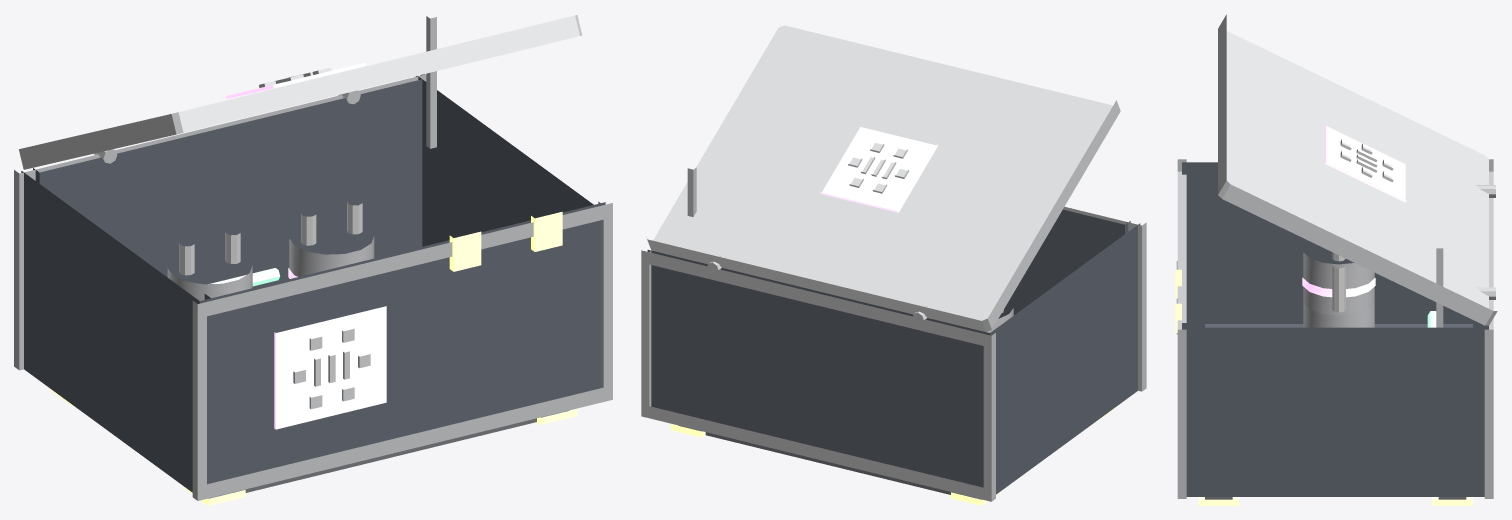
File: lab_crate_frame_204.glb
3 views of the same model, side by side, from view 1: azimuth 30°, elevation 25°; view 2: azimuth 150°, elevation 25°; view 3: azimuth 270°, elevation 25° (orthographic). The views are drawn at different scales.
Visible parts, largest first — view 1: Body_204, Frame_204, Lid_204, Glyph_Plate_204, Emitter_alloy_204, Latches_204, Emitter_ceramic_204, Glyph_Marks_204, Skids_204, Lid_Prop_204, Floor_Clamps_204; view 2: Lid_204, Body_204, Frame_204, Lid_Glyph_204, Skids_204, Lid_Glyph_Marks_204; view 3: Body_204, Lid_204, Frame_204, Emitter_alloy_204, Lid_Glyph_204, Emitter_slate_204, Emitter_ceramic_204, Floor_Clamps_204, Lid_Glyph_Marks_204, Emitter_violet_204, Lid_Prop_204.
Part boxes in pixels (bbox=[...]): Body_204: bbox=[21, 76, 605, 492]; Frame_204: bbox=[14, 74, 612, 500]; Lid_204: bbox=[19, 15, 582, 169]; Glyph_Plate_204: bbox=[274, 306, 386, 429]; Emitter_alloy_204: bbox=[167, 236, 374, 300]; Latches_204: bbox=[449, 211, 562, 271]; Emitter_ceramic_204: bbox=[179, 201, 362, 275]; Glyph_Marks_204: bbox=[293, 328, 370, 409]; Skids_204: bbox=[209, 410, 569, 498]; Lid_Prop_204: bbox=[426, 16, 436, 148]; Floor_Clamps_204: bbox=[49, 388, 577, 505]; Lid_204: bbox=[646, 25, 1120, 331]; Body_204: bbox=[647, 209, 1140, 494]; Frame_204: bbox=[641, 206, 1146, 501]; Lid_Glyph_204: bbox=[820, 127, 937, 212]; Skids_204: bbox=[678, 425, 981, 499]; Lid_Glyph_Marks_204: bbox=[848, 143, 908, 193]; Body_204: bbox=[1182, 162, 1488, 496]; Lid_204: bbox=[1218, 14, 1497, 325]; Frame_204: bbox=[1177, 159, 1493, 498]; Emitter_alloy_204: bbox=[1303, 252, 1374, 327]; Lid_Glyph_204: bbox=[1324, 123, 1406, 202]; Emitter_slate_204: bbox=[1205, 324, 1472, 327]; Emitter_ceramic_204: bbox=[1332, 252, 1345, 312]; Floor_Clamps_204: bbox=[1198, 497, 1472, 505]; Lid_Glyph_Marks_204: bbox=[1340, 139, 1393, 182]; Emitter_violet_204: bbox=[1302, 277, 1375, 297]; Lid_Prop_204: bbox=[1436, 248, 1443, 327].
Size of the model in its own units: 0.9 by 0.7979 by 0.7038.
